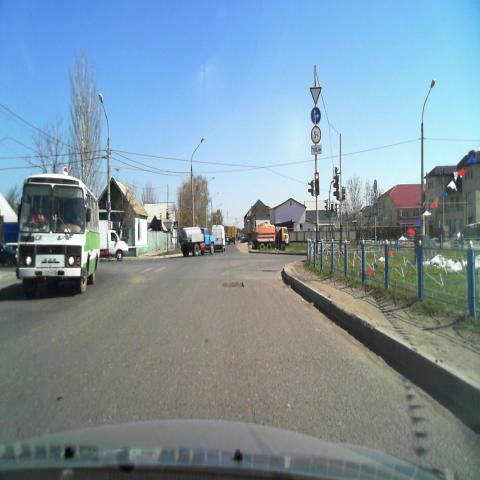3_11: (310, 126, 321, 145)
